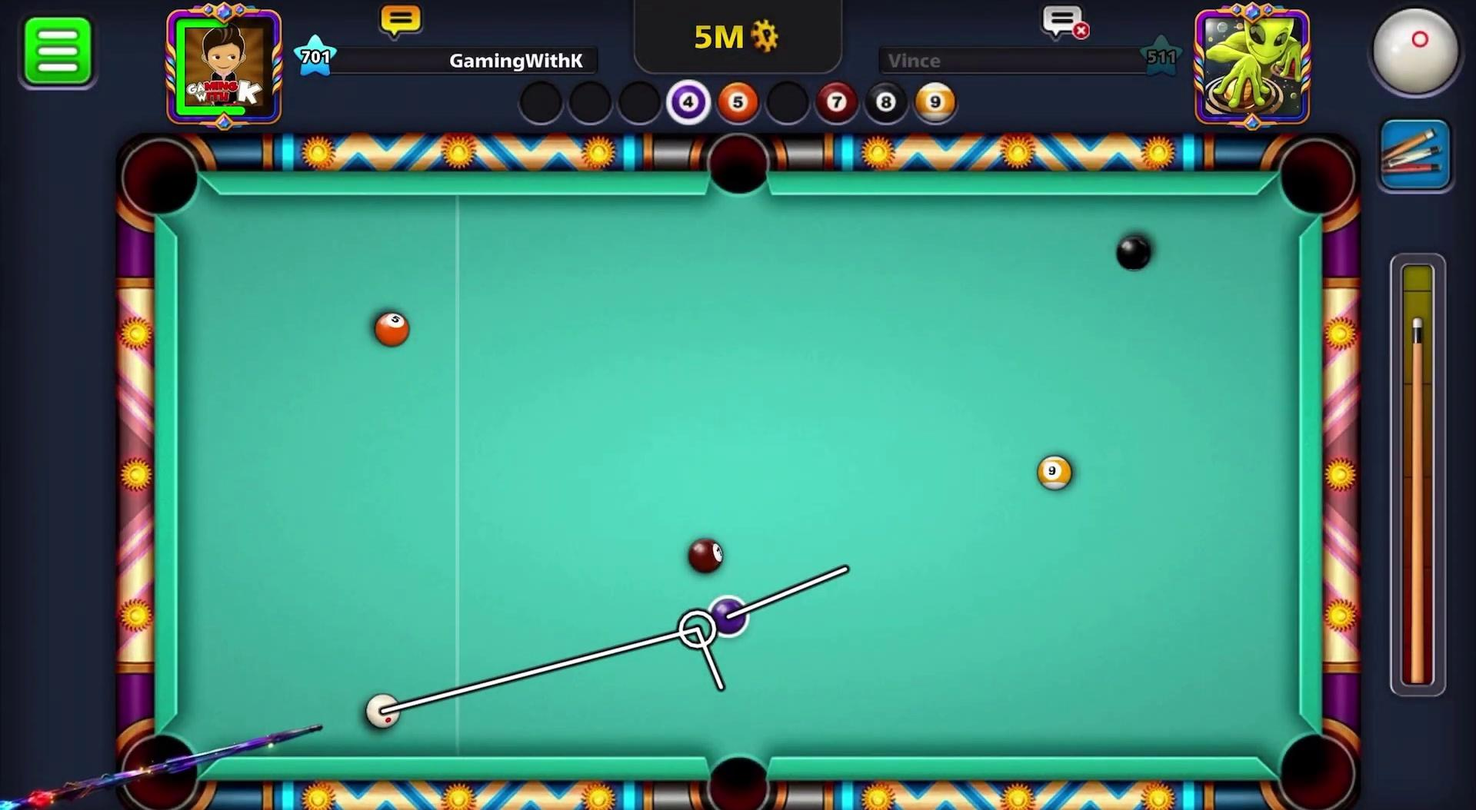Ball: (678, 533, 733, 584), (1031, 447, 1080, 497), (369, 305, 419, 351), (700, 589, 749, 623), (1114, 231, 1154, 272)
Force: (1384, 261, 1453, 709)
Guideline: (365, 565, 849, 727)
Hole: (103, 715, 219, 809), (1267, 129, 1366, 231), (1265, 717, 1364, 809), (114, 130, 206, 227), (683, 738, 789, 809), (701, 124, 777, 201)
Play_Area: (179, 194, 1298, 762)
Spin: (1347, 0, 1475, 114)
White: (355, 690, 406, 736)
